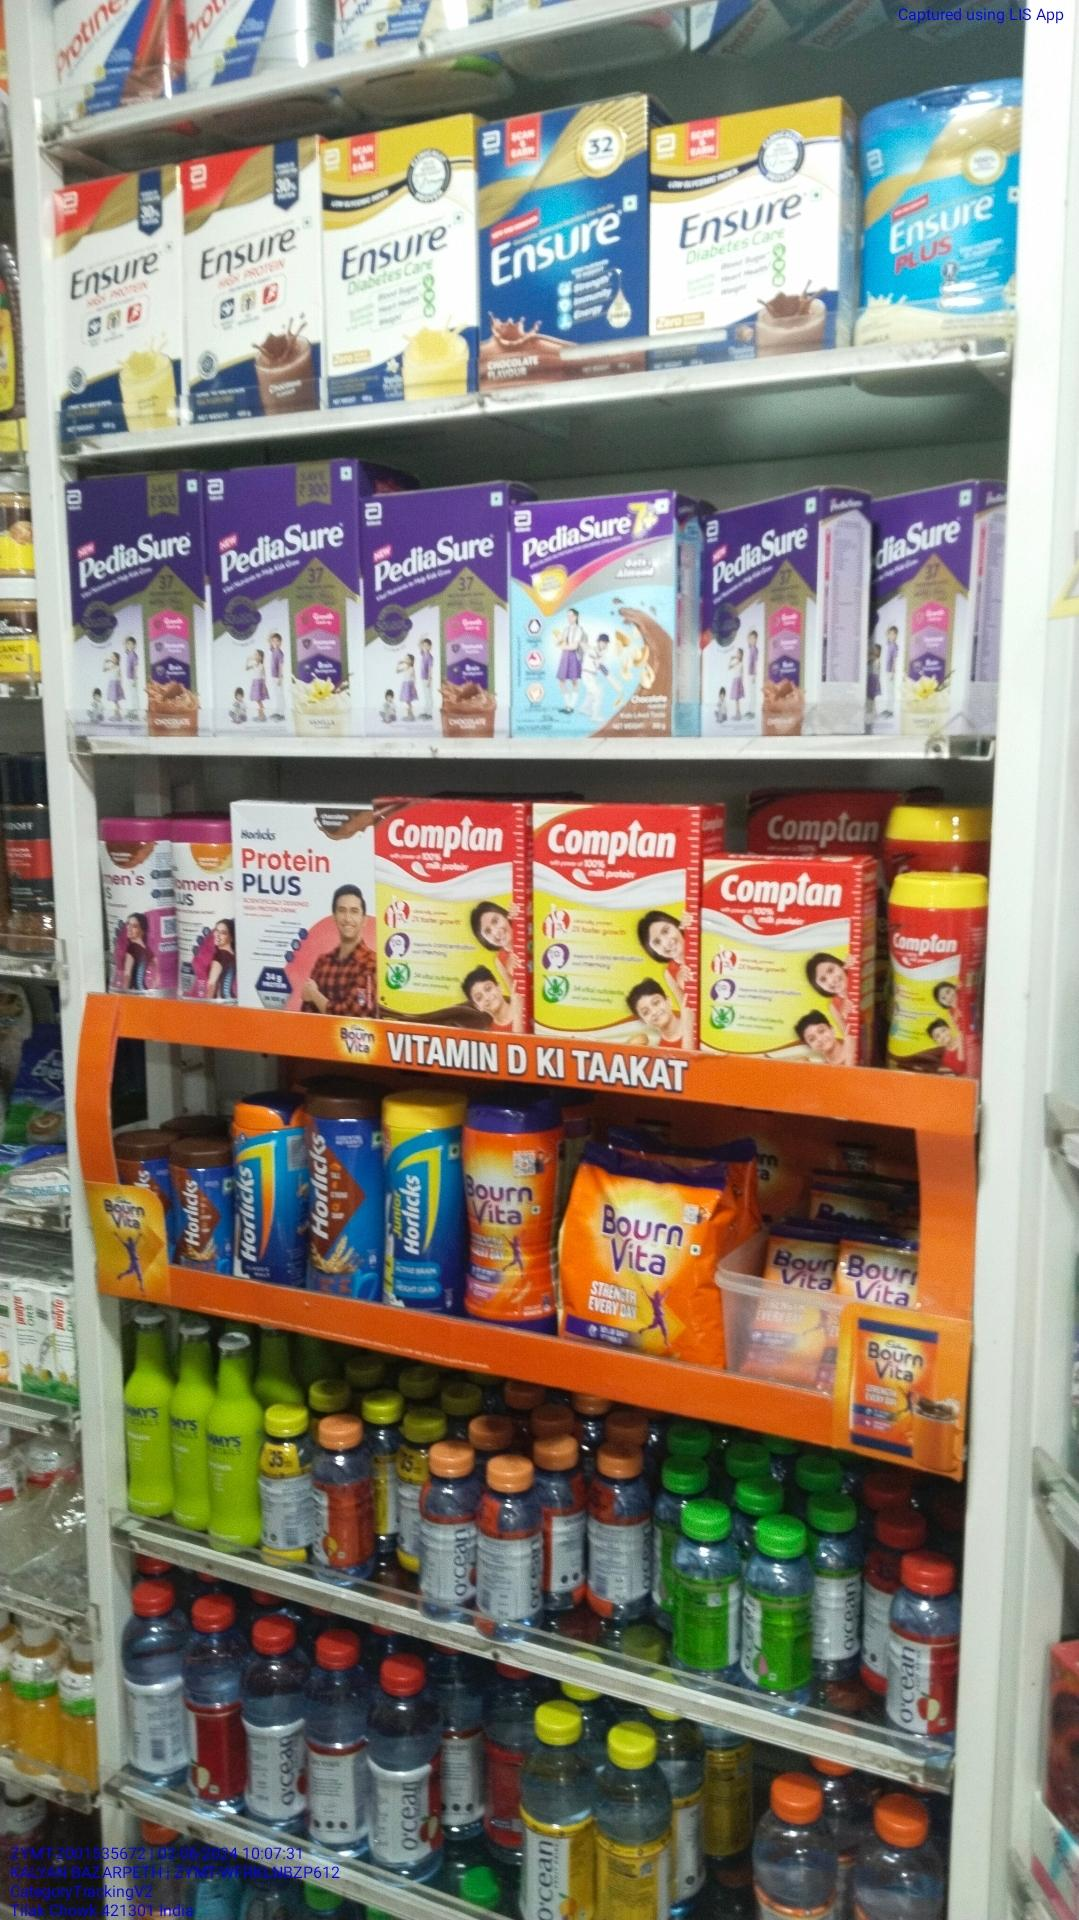COMPLAN_CHOCOLATE_200_GMS_JAR: (885, 870, 984, 1073)
HORLICKS_JUNIOR_VANILLA_500_GM_JAR: (381, 1092, 467, 1311)
HORLICK_CLASSIC_MALT_500_G_JAR: (232, 1098, 309, 1279)
PEDIASURE_7_PLUS_CHOCOLATE_400_G_PACK: (513, 496, 677, 737)
PEDIASURE_CHOCOLATE_500_G_PACK: (365, 489, 504, 735), (699, 487, 813, 740)
